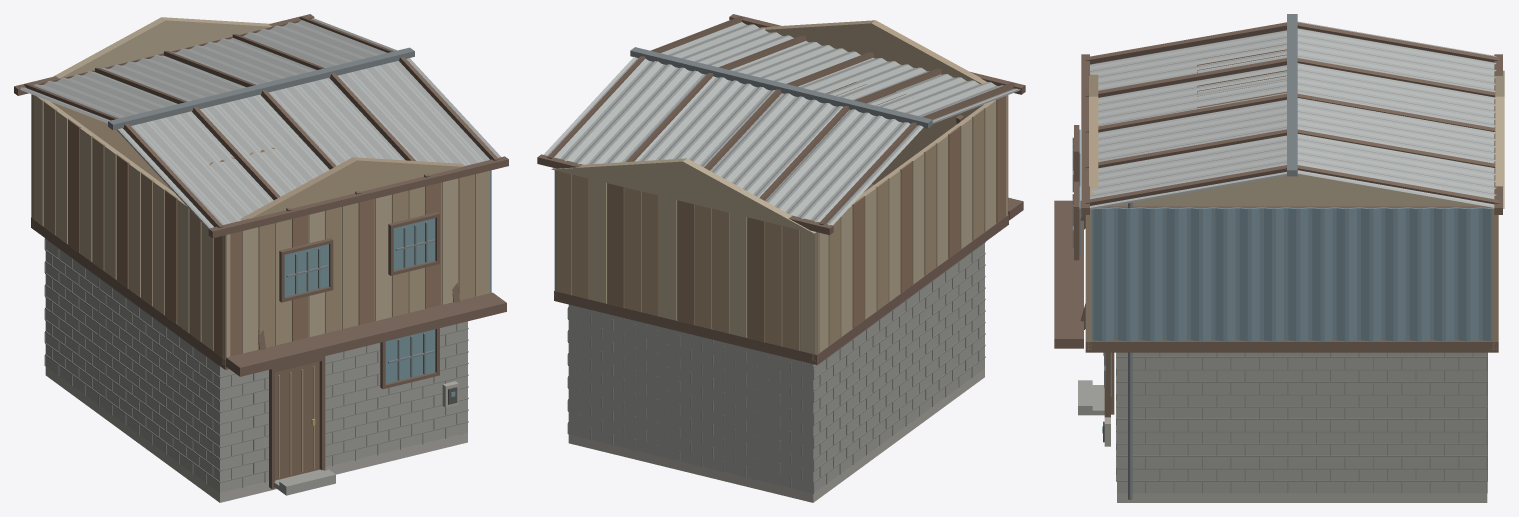
Rendered from SH06_Concrete_Ground_Wood_Upper.glb.
The picture shows the model from 3 angles, left to right: view 1: azimuth 30°, elevation 25°; view 2: azimuth 150°, elevation 25°; view 3: azimuth 270°, elevation 25°; orthographic projection. The views are drawn at different scales.
Visible parts, largest first — view 1: 708_Upper_gable_roof_right_sheet, 278_Left_CHB_concrete, 002_Front_CHB_concrete, 707_Upper_gable_roof_left_sheet, 704_Front_overhang_joist, 705_Front_gable, 706_Rear_gable, 666_Ground_door_door, 001_Ground_floor_slab, 709_Upper_gable_roof_ridge_cap, 711_Upper_gable_roof_fascia_1, 615_Upper_front_backing (+51 smaller); view 2: 140_Rear_CHB_concrete, 707_Upper_gable_roof_left_sheet, 278_Left_CHB_concrete, 708_Upper_gable_roof_right_sheet, 706_Rear_gable, 614_Upper_floor, 705_Front_gable, 001_Ground_floor_slab, 709_Upper_gable_roof_ridge_cap, 632_Upper_rear_backing, 636_Upper_rear_plank_04, 638_Upper_rear_plank_06 (+45 smaller); view 3: 665_Upper_right_metal, 446_Right_CHB_concrete, 707_Upper_gable_roof_left_sheet, 708_Upper_gable_roof_right_sheet, 648_Upper_left_backing, 614_Upper_floor, 704_Front_overhang_joist, 001_Ground_floor_slab, 709_Upper_gable_roof_ridge_cap, 713_Upper_gable_roof_rafter_right_0, 721_Upper_gable_roof_rafter_right_4, 715_Upper_gable_roof_rafter_right_1 (+29 smaller).
Boxes of the visible parts, bbox=[...] form: 708_Upper_gable_roof_right_sheet: bbox=[116, 58, 501, 228]; 278_Left_CHB_concrete: bbox=[45, 240, 228, 492]; 002_Front_CHB_concrete: bbox=[215, 321, 467, 492]; 707_Upper_gable_roof_left_sheet: bbox=[20, 18, 397, 123]; 704_Front_overhang_joist: bbox=[226, 292, 506, 376]; 705_Front_gable: bbox=[240, 157, 465, 220]; 706_Rear_gable: bbox=[53, 17, 271, 78]; 666_Ground_door_door: bbox=[275, 361, 319, 480]; 001_Ground_floor_slab: bbox=[45, 366, 467, 502]; 709_Upper_gable_roof_ridge_cap: bbox=[108, 47, 414, 130]; 711_Upper_gable_roof_fascia_1: bbox=[208, 156, 508, 238]; 615_Upper_front_backing: bbox=[222, 174, 475, 365]; 140_Rear_CHB_concrete: bbox=[568, 304, 817, 493]; 707_Upper_gable_roof_left_sheet: bbox=[543, 56, 923, 225]; 278_Left_CHB_concrete: bbox=[804, 246, 984, 492]; 708_Upper_gable_roof_right_sheet: bbox=[651, 20, 1020, 123]; 706_Rear_gable: bbox=[551, 158, 815, 233]; 614_Upper_floor: bbox=[554, 184, 1008, 364]; 705_Front_gable: bbox=[759, 20, 987, 84]; 001_Ground_floor_slab: bbox=[568, 368, 984, 502]; 709_Upper_gable_roof_ridge_cap: bbox=[630, 47, 932, 128]; 632_Upper_rear_backing: bbox=[571, 174, 819, 355]; 636_Upper_rear_plank_04: bbox=[747, 217, 764, 341]; 638_Upper_rear_plank_06: bbox=[712, 209, 729, 333]; 665_Upper_right_metal: bbox=[1085, 207, 1494, 341]; 446_Right_CHB_concrete: bbox=[1117, 352, 1487, 493]; 707_Upper_gable_roof_left_sheet: bbox=[1297, 21, 1496, 207]; 708_Upper_gable_roof_right_sheet: bbox=[1090, 30, 1286, 209]; 648_Upper_left_backing: bbox=[1112, 174, 1483, 206]; 614_Upper_floor: bbox=[1085, 206, 1498, 352]; 704_Front_overhang_joist: bbox=[1054, 200, 1083, 348]; 001_Ground_floor_slab: bbox=[1117, 492, 1487, 502]; 709_Upper_gable_roof_ridge_cap: bbox=[1287, 14, 1297, 176]; 713_Upper_gable_roof_rafter_right_0: bbox=[1085, 22, 1286, 64]; 721_Upper_gable_roof_rafter_right_4: bbox=[1085, 165, 1286, 205]; 715_Upper_gable_roof_rafter_right_1: bbox=[1085, 58, 1286, 97].
Bounding box in the file's own units: 5.6 × 5.78 × 6.82.
